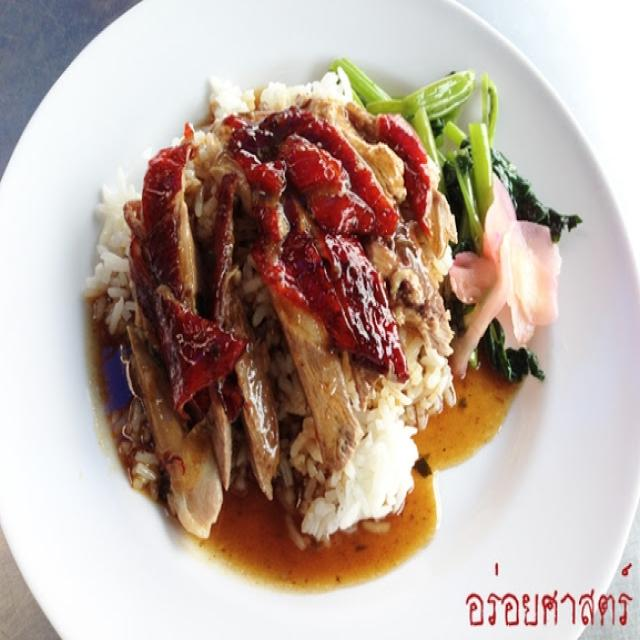米饭主食: (60, 37, 586, 594)
